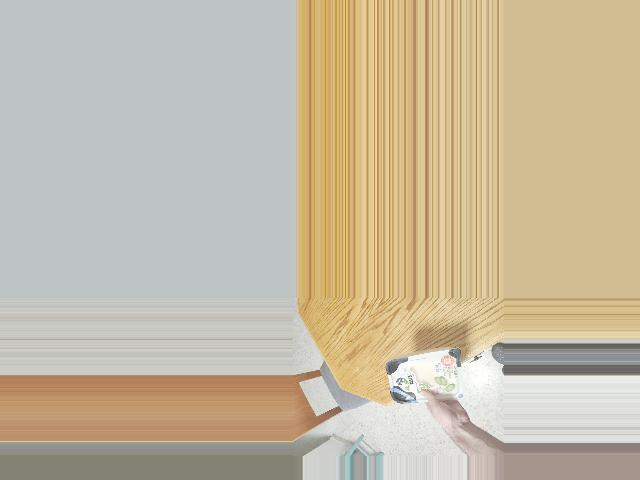cheese: (387, 357, 457, 401)
